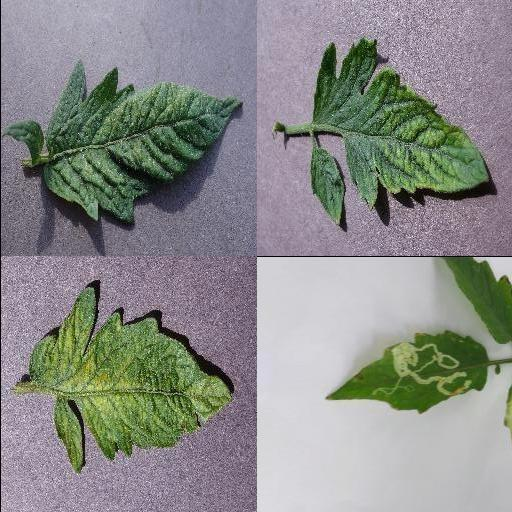Leaf Miner: (325, 332, 487, 414)
Mosaic Virus: (26, 286, 234, 476), (309, 36, 491, 226)
Spider Mites: (41, 60, 243, 222)
